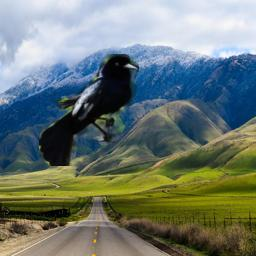Crow: (39, 54, 139, 166)
